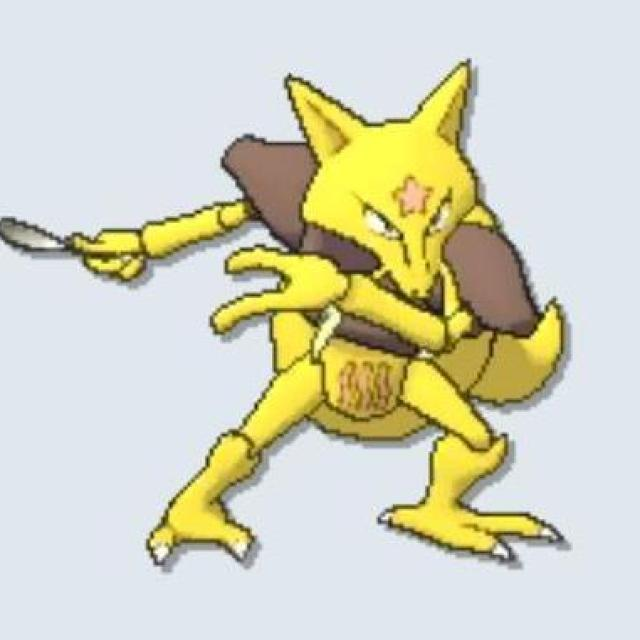Kadabra: (149, 66, 585, 553)
